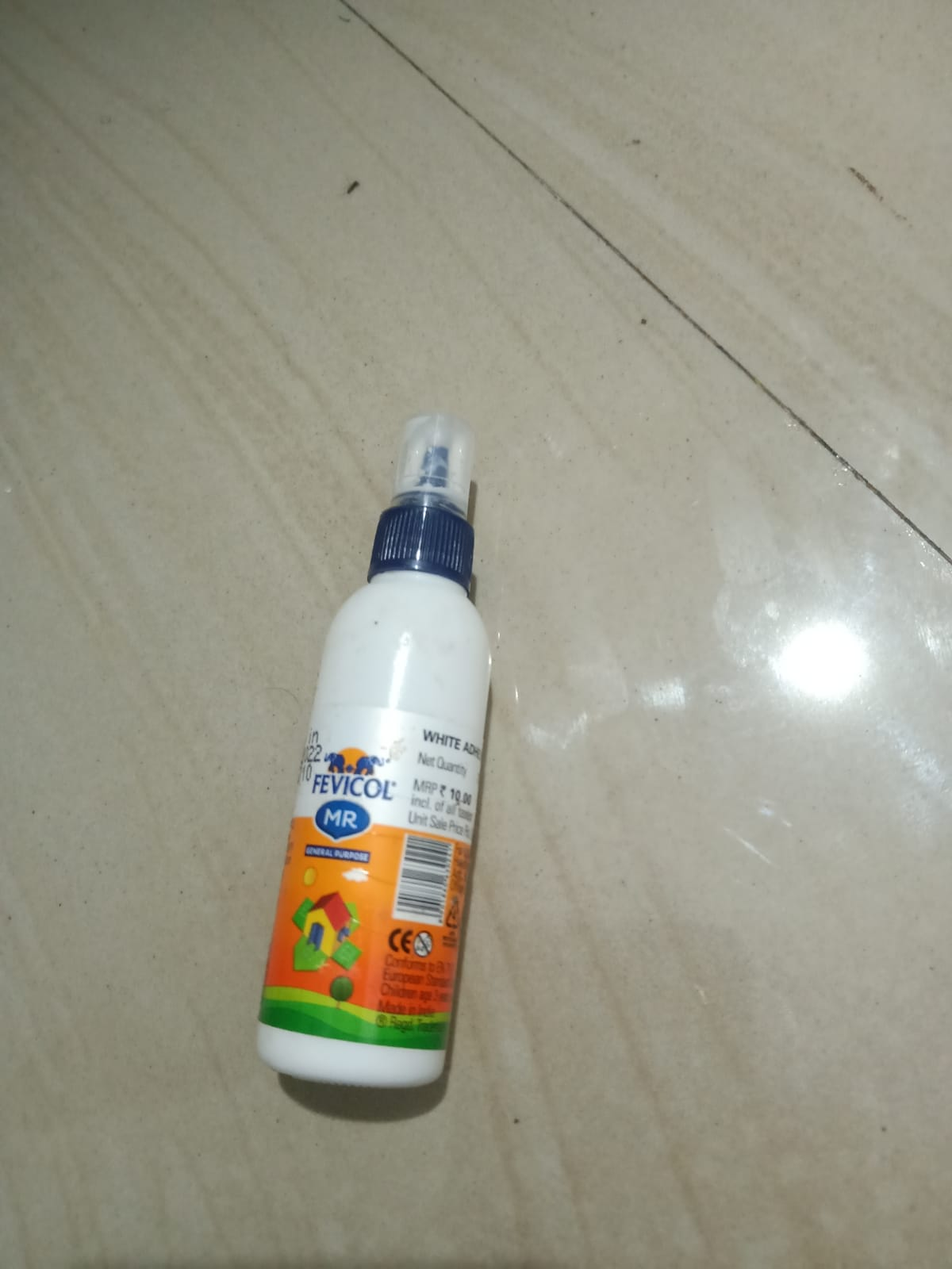plastic: (249, 400, 589, 1109)
